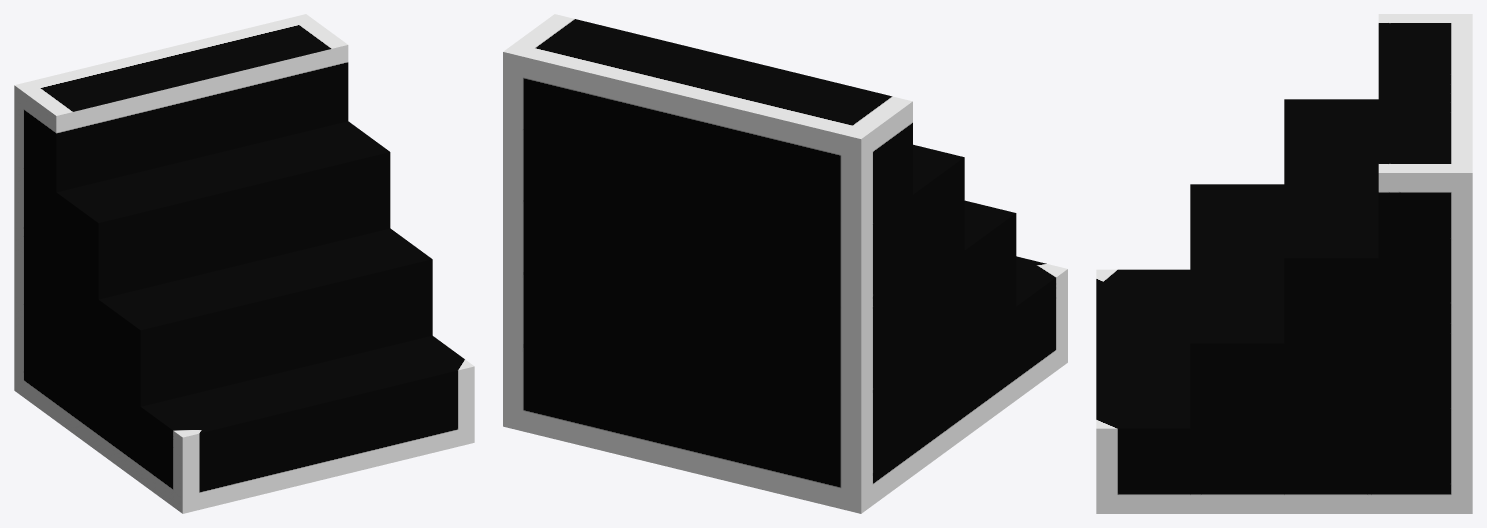
The model's file is Arena_Stair.fbx.
3 renders of one model, left to right at view 1: azimuth 30°, elevation 25°; view 2: azimuth 150°, elevation 25°; view 3: azimuth 270°, elevation 25°, orthographic. The views are drawn at different scales.
Parts seen in each view (by area): view 1: Cube; view 2: Cube; view 3: Cube.
Part boxes in pixels (box(x1,y1,x2,y2)): Cube: box(14, 14, 474, 513); Cube: box(503, 14, 1067, 513); Cube: box(1096, 14, 1472, 513).
Bounding box in the file's own units: 500 × 500 × 500.
Materials: 1 (1 with a texture image).
